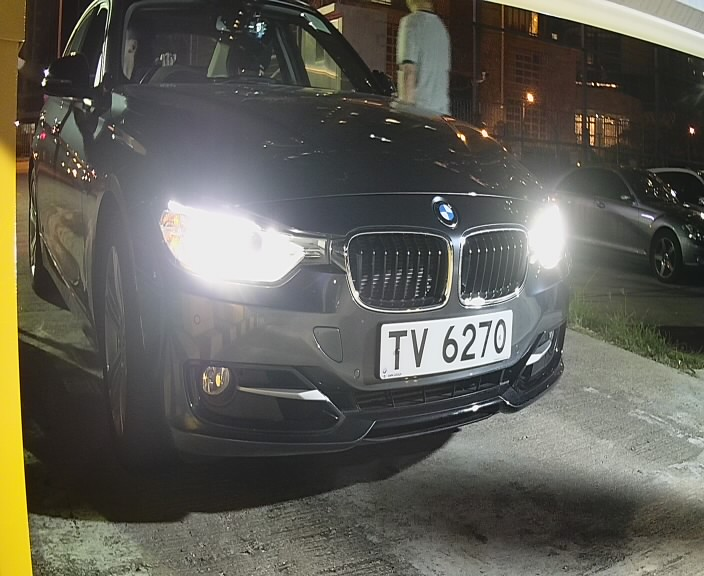License Plate: (372, 305, 526, 386)
